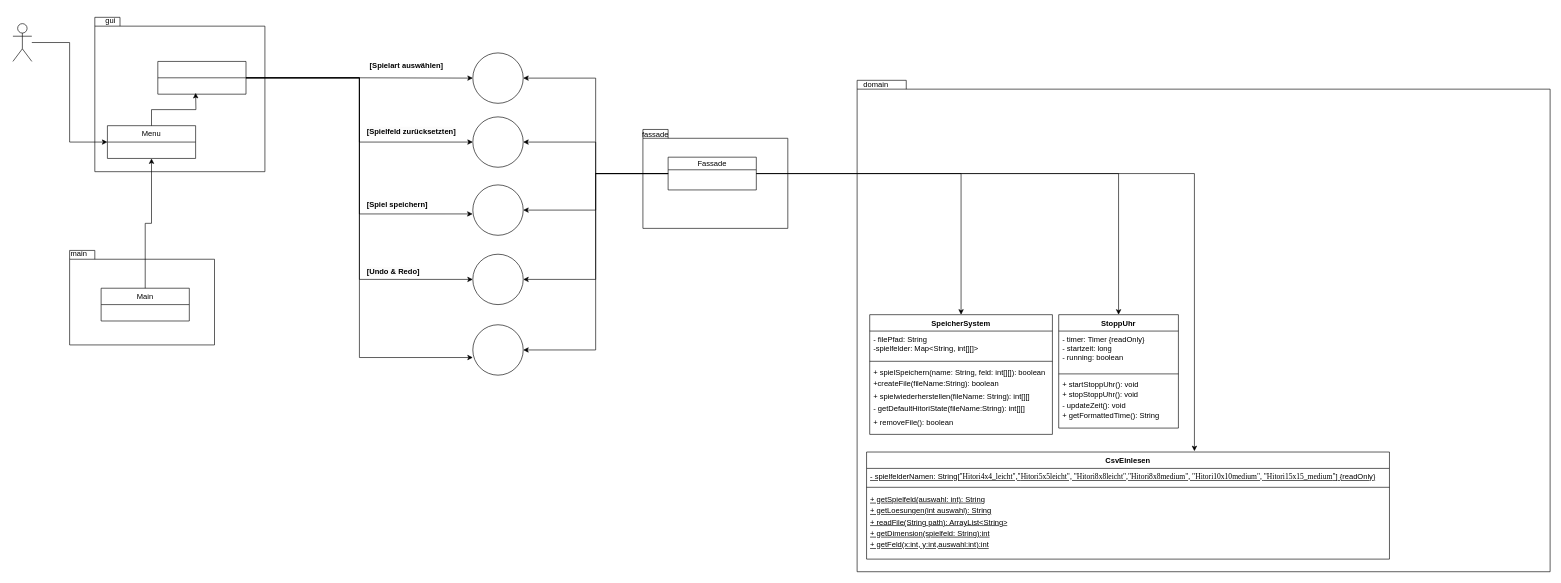
The diagram is 1561 pixels wide and 583 high, and some of its shapes have lost their labels. The centre of each missing label's shape, as x and y in pixels:
HitoriGame: the point at 201,77
Spieler: the point at 22,42
